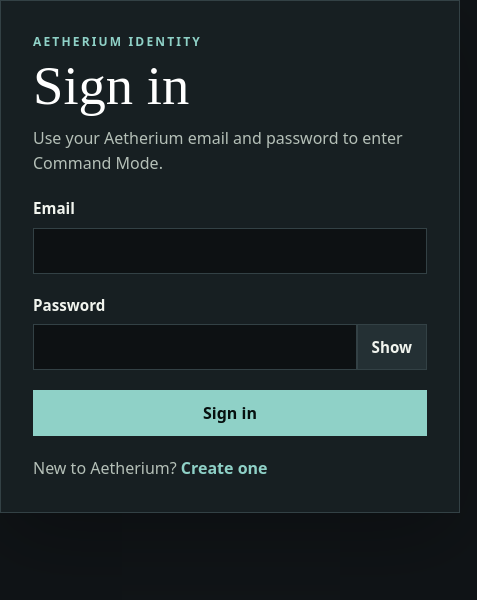
Test: auth UI › shows non-revealing invalid credential errors
The width and height of the screenshot is (477, 600).
Type "sai@example.com" into the field labelled "Email" at (230, 251), box [33, 228, 427, 274]
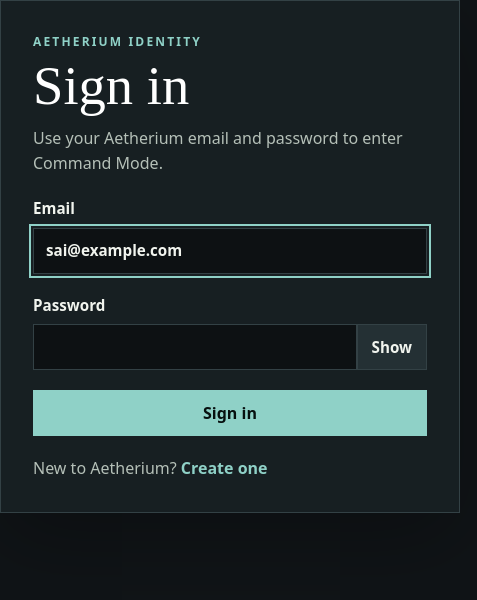
Type "WrongPass123!" into the password field labelled "Password" at (195, 347), box [33, 324, 356, 370]
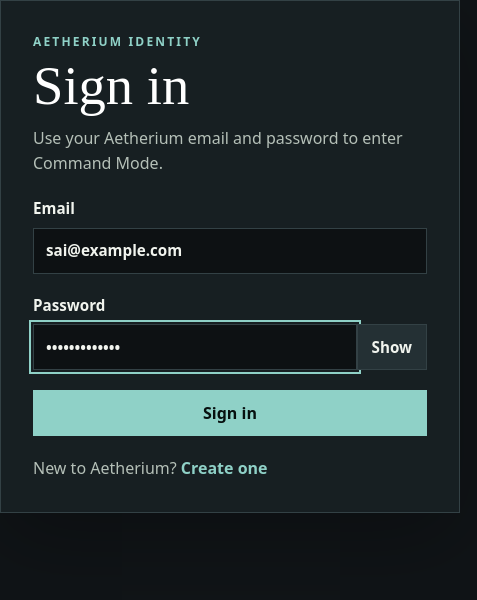
Click the button "Sign in" at (230, 413), box [33, 390, 427, 436]
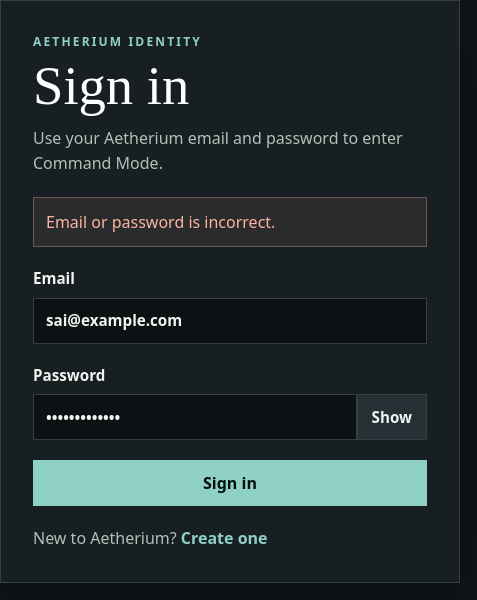
Result: the message reads "Email or password is incorrect." at [46, 211, 275, 233]
